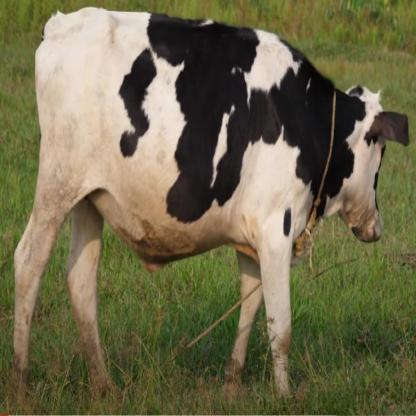cow: (15, 11, 388, 396)
